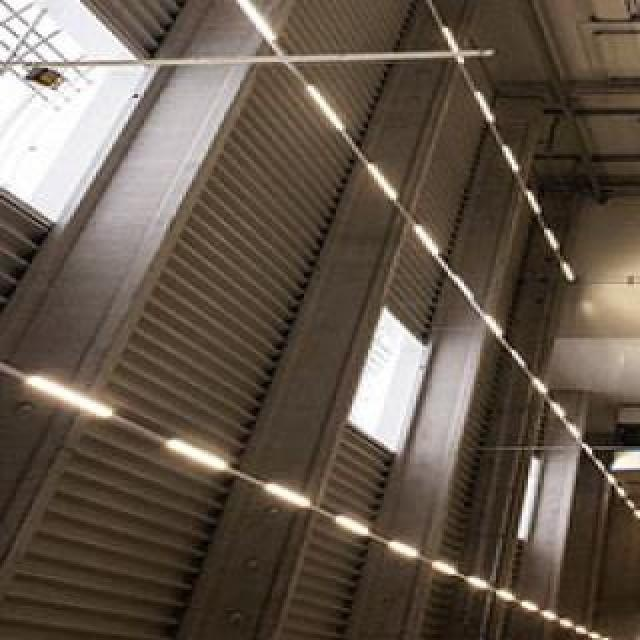fluorescent tube: (13, 369, 122, 426), (162, 429, 238, 482), (218, 0, 288, 52), (300, 78, 353, 135), (260, 476, 315, 520), (424, 17, 471, 67), (471, 65, 504, 135), (512, 162, 544, 220), (409, 220, 444, 271), (334, 505, 374, 542), (491, 135, 525, 178), (363, 164, 401, 200), (531, 222, 571, 254), (386, 528, 418, 568), (478, 314, 515, 346), (462, 562, 491, 596), (420, 557, 462, 579), (558, 256, 580, 288), (531, 373, 554, 391), (567, 422, 582, 449)
